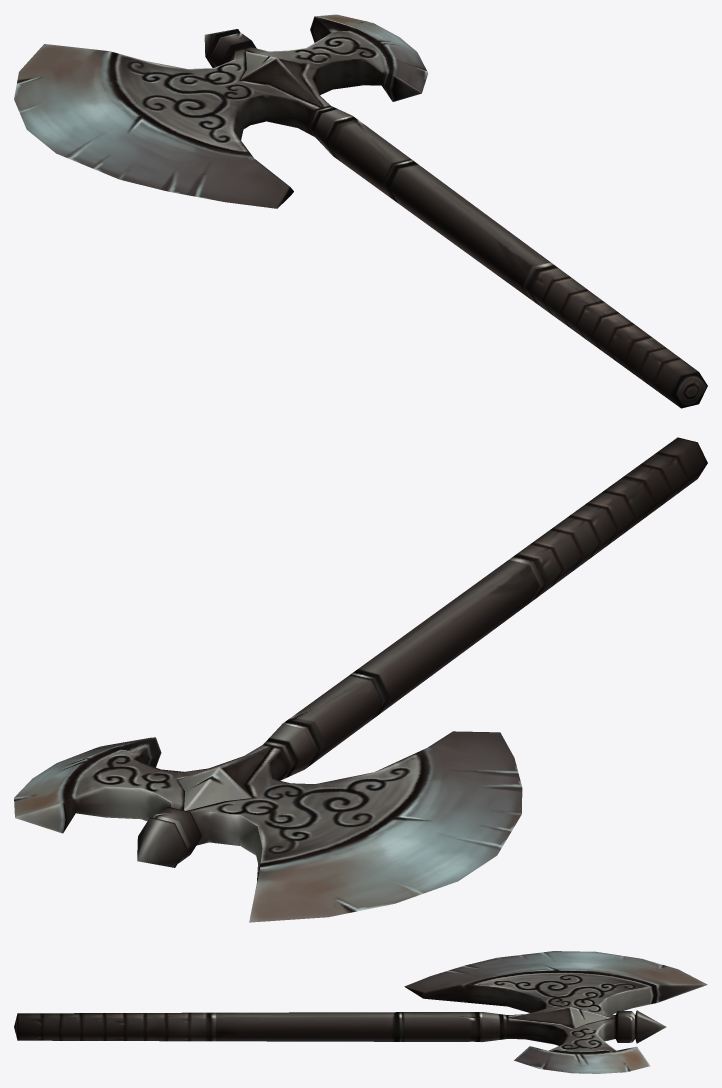
The model's file is Axe_15.fbx.
3 renders of one model, top to bottom at view 1: azimuth 30°, elevation 25°; view 2: azimuth 150°, elevation 25°; view 3: azimuth 270°, elevation 25°, orthographic. The views are drawn at different scales.
Parts seen in each view (by area): view 1: Axe_15_El1, Axe_15_El2; view 2: Axe_15_El1, Axe_15_El2; view 3: Axe_15_El1, Axe_15_El2.
Part boxes in pixels (x1,y1,x2,y2): Axe_15_El1: (14,14,428,208); Axe_15_El2: (323,115,707,408); Axe_15_El1: (14,723,522,922); Axe_15_El2: (283,437,707,768); Axe_15_El1: (404,951,707,1073); Axe_15_El2: (14,1012,482,1042).
Size of the model in its own units: 0.6954 by 0.1064 by 1.66.
